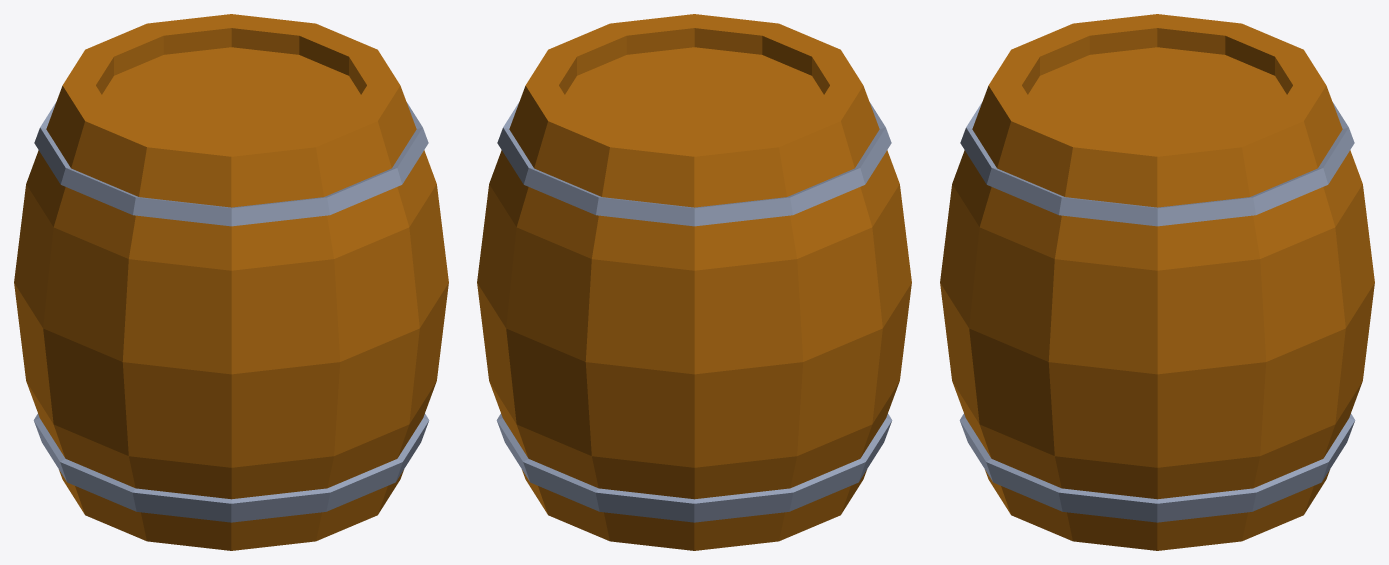
The model's file is tynnyr.fbx.
3 views of the same model, side by side, from view 1: azimuth 30°, elevation 25°; view 2: azimuth 150°, elevation 25°; view 3: azimuth 270°, elevation 25° (orthographic).
Parts seen in each view (by area): view 1: Cylinder; view 2: Cylinder; view 3: Cylinder.
Boxes of the visible parts, <box> form: Cylinder: <box>14,14,448,550</box>; Cylinder: <box>477,14,911,550</box>; Cylinder: <box>940,14,1374,550</box>.
Size of the model in its own units: 2 by 2 by 2.
